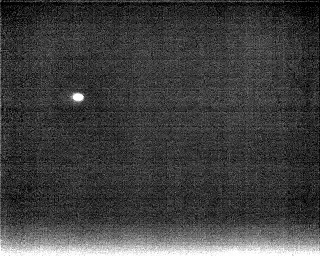AIRPLANE: (70, 89, 86, 105)
